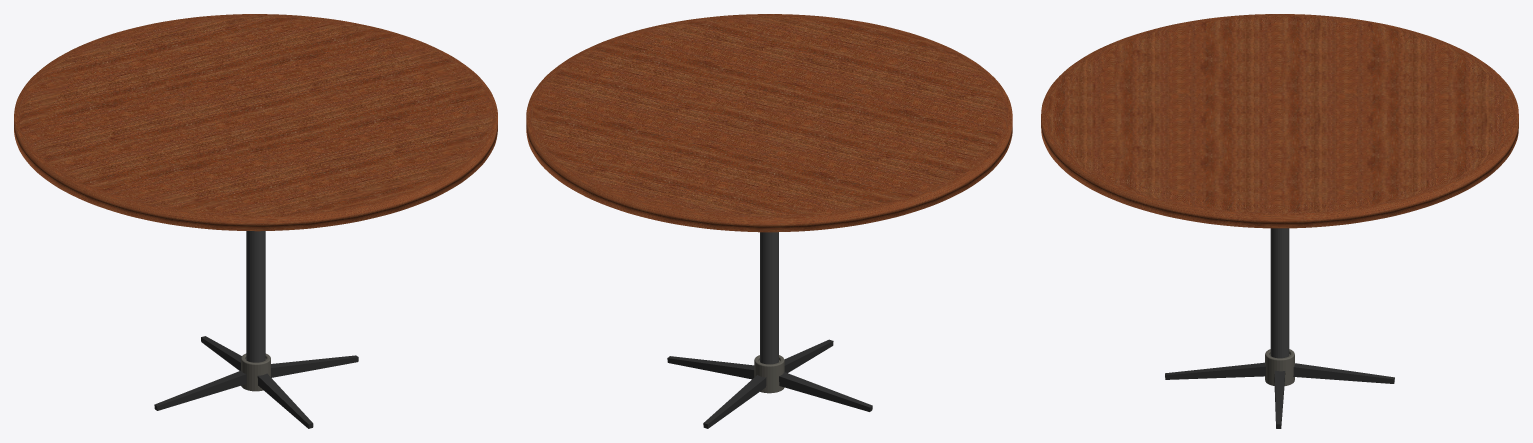
The model's file is rounded-dining-table.glb.
The picture shows the model from 3 angles, left to right: view 1: azimuth 30°, elevation 25°; view 2: azimuth 150°, elevation 25°; view 3: azimuth 270°, elevation 25°; orthographic projection.
Visible parts, largest first — view 1: Object_4, Object_10, Object_6, Object_8; view 2: Object_4, Object_10, Object_6, Object_8; view 3: Object_4, Object_10, Object_6, Object_8.
Boxes of the visible parts, bbox=[...] form: Object_4: bbox=[14, 14, 497, 231]; Object_10: bbox=[154, 336, 358, 428]; Object_6: bbox=[246, 231, 265, 362]; Object_8: bbox=[241, 353, 270, 391]; Object_4: bbox=[526, 14, 1012, 232]; Object_10: bbox=[667, 339, 872, 428]; Object_6: bbox=[760, 232, 778, 364]; Object_8: bbox=[754, 355, 784, 393]; Object_4: bbox=[1041, 14, 1518, 228]; Object_10: bbox=[1165, 362, 1394, 428]; Object_6: bbox=[1270, 228, 1289, 358]; Object_8: bbox=[1265, 349, 1294, 385].
Size of the model in its own units: 1.99 by 1.22 by 1.99.
Materials: 4 (1 with a texture image).
